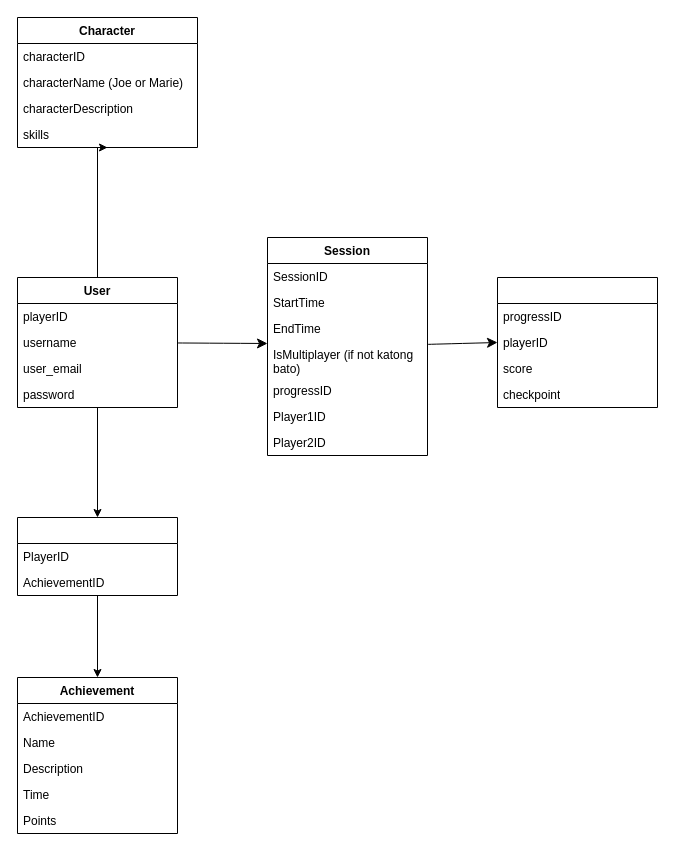
This 675x854 diagram has some shape labels left out. Each missing label, with the box of its shape:
PlayerAchievement: (16, 516, 178, 596)
ProgressData: (496, 276, 658, 408)
